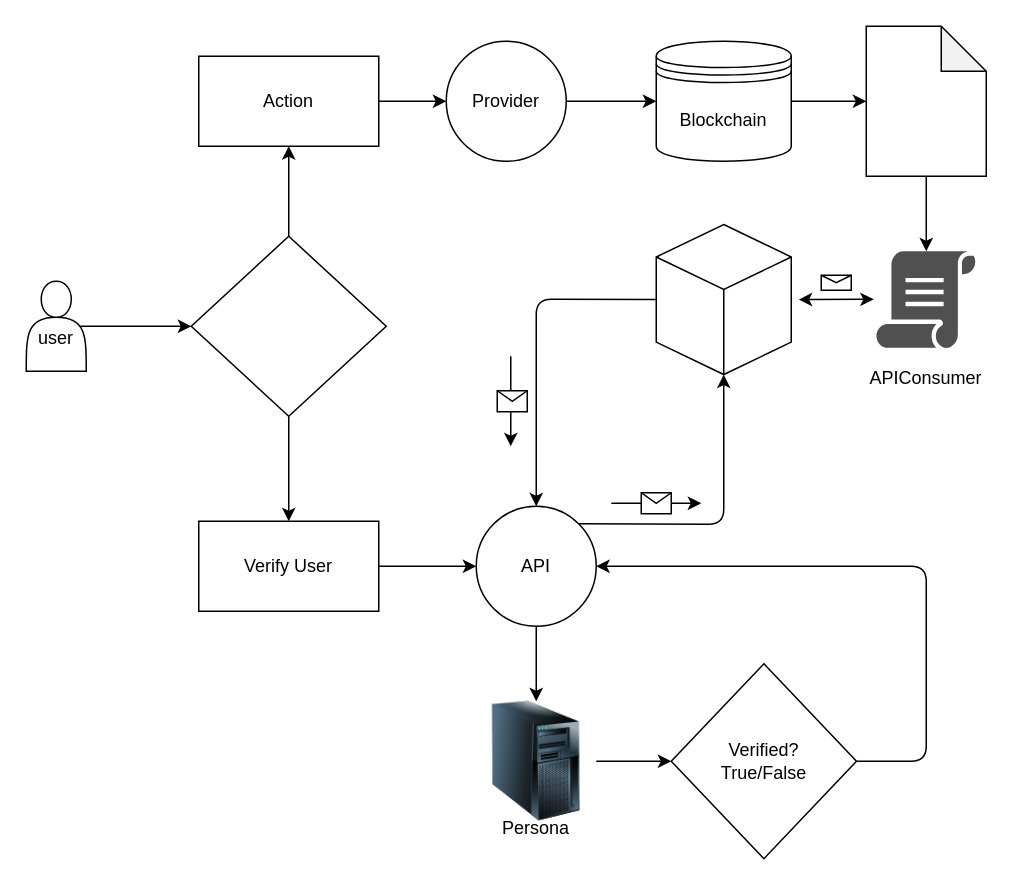
The diagram is 1013 pixels wide and 885 high, and some of its shapes have lost their labels. The centre of each missing label's shape, as x and y in pixels:
"Interaction" goes at point (288, 325).
"Oracle Node" goes at point (723, 299).
"Smart-Contract" goes at point (925, 100).
